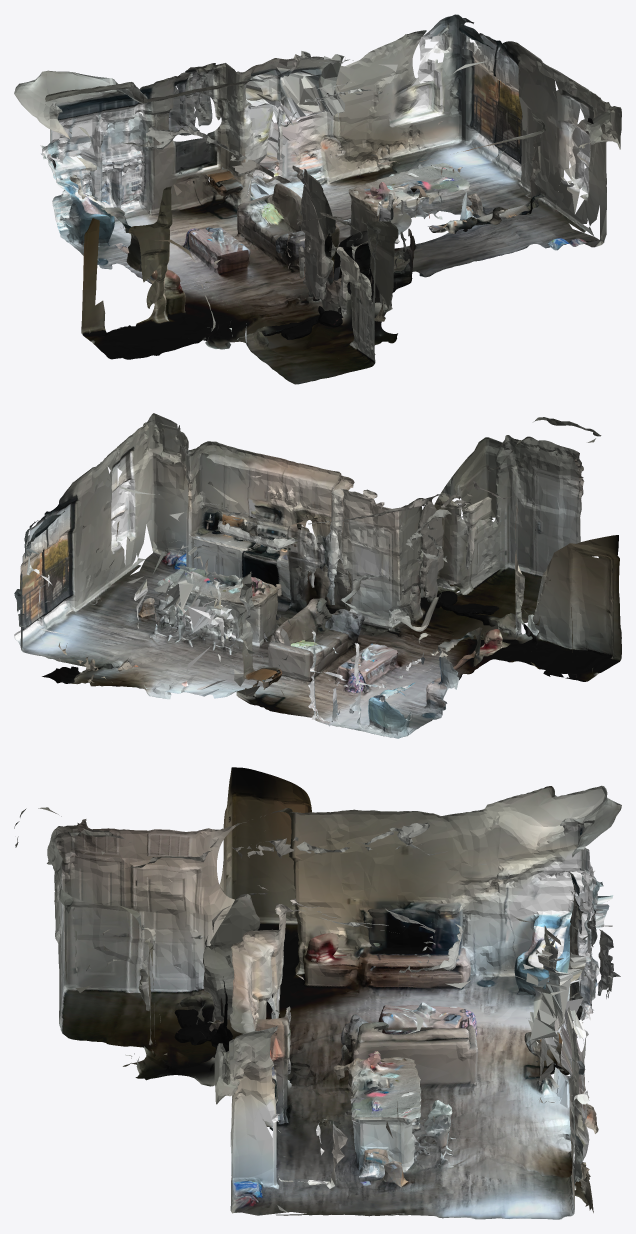
File: room1.glb
The picture shows the model from 3 angles, top to bottom: view 1: azimuth 30°, elevation 25°; view 2: azimuth 150°, elevation 25°; view 3: azimuth 270°, elevation 25°; orthographic projection. The views are drawn at different scales.
Visible parts, largest first — view 1: Mesh_1, Mesh_0, Mesh_2; view 2: Mesh_0, Mesh_1, Mesh_2; view 3: Mesh_1, Mesh_0, Mesh_2.
Part boxes in pixels (box(x1,y1,x2,y2)): Mesh_1: box(41, 15, 617, 342); Mesh_0: box(21, 34, 621, 384); Mesh_2: box(14, 14, 619, 354); Mesh_0: box(16, 414, 621, 738); Mesh_1: box(14, 417, 590, 738); Mesh_2: box(14, 413, 619, 717); Mesh_1: box(14, 808, 620, 1219); Mesh_0: box(15, 767, 621, 1218); Mesh_2: box(81, 767, 618, 1219).
Bounding box in the file's own units: 10.45 × 3.4 × 8.97.
Materials: 3 (3 with a texture image).
